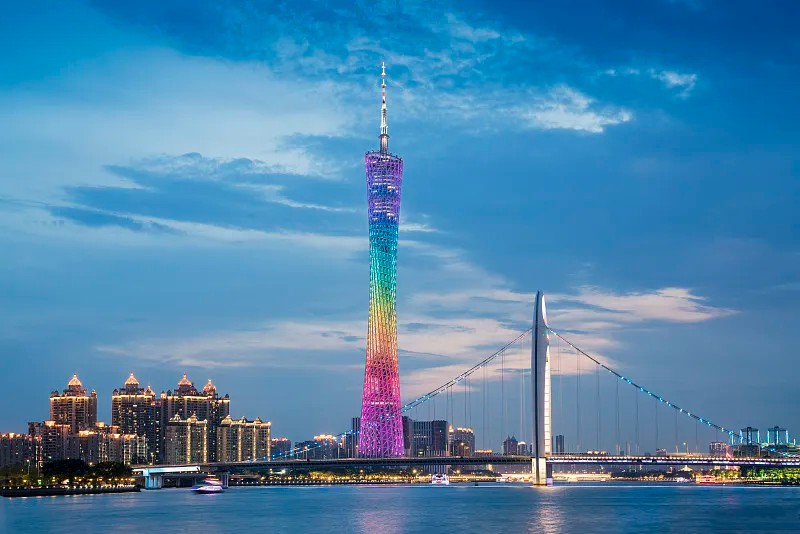Canton: (358, 62, 406, 457)
